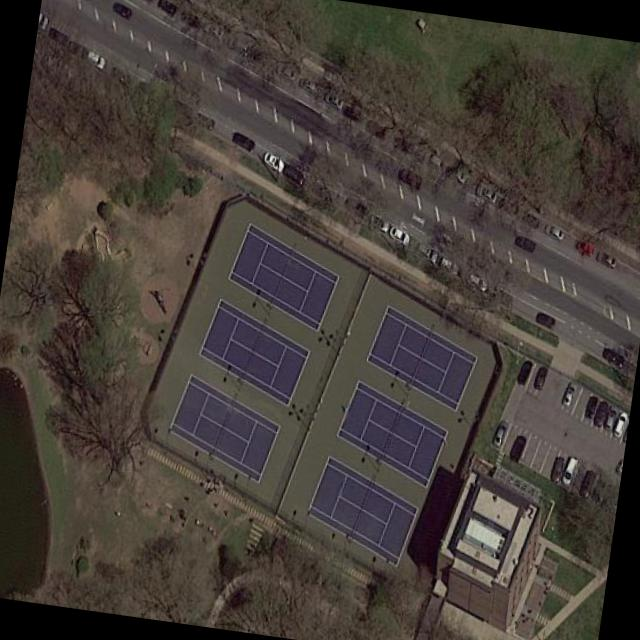small-vehicle: (229, 128, 258, 153), (413, 240, 443, 263), (560, 454, 582, 485), (298, 74, 328, 96), (577, 467, 598, 498), (346, 193, 372, 218), (262, 149, 288, 174), (283, 162, 308, 187), (475, 180, 502, 203), (226, 31, 253, 54), (81, 45, 108, 68), (602, 345, 629, 368), (516, 357, 536, 388), (202, 18, 230, 40), (111, 64, 136, 88), (509, 432, 529, 462), (592, 397, 612, 426), (399, 166, 425, 188), (192, 108, 218, 130), (387, 223, 414, 244), (179, 7, 206, 28), (439, 253, 464, 275), (596, 247, 621, 269), (498, 195, 524, 216), (612, 407, 630, 437), (534, 308, 557, 331), (467, 270, 491, 292), (367, 117, 391, 139), (323, 89, 348, 110), (572, 238, 598, 258), (445, 163, 469, 184), (276, 61, 301, 81), (521, 209, 545, 229), (604, 402, 621, 430), (550, 454, 567, 482), (367, 213, 393, 231), (492, 421, 509, 447), (533, 364, 550, 390), (515, 233, 538, 252), (544, 222, 567, 241), (584, 393, 601, 418), (394, 135, 417, 153), (113, 0, 134, 18), (343, 103, 365, 120), (561, 384, 578, 406), (157, 0, 180, 16), (424, 149, 445, 166)
